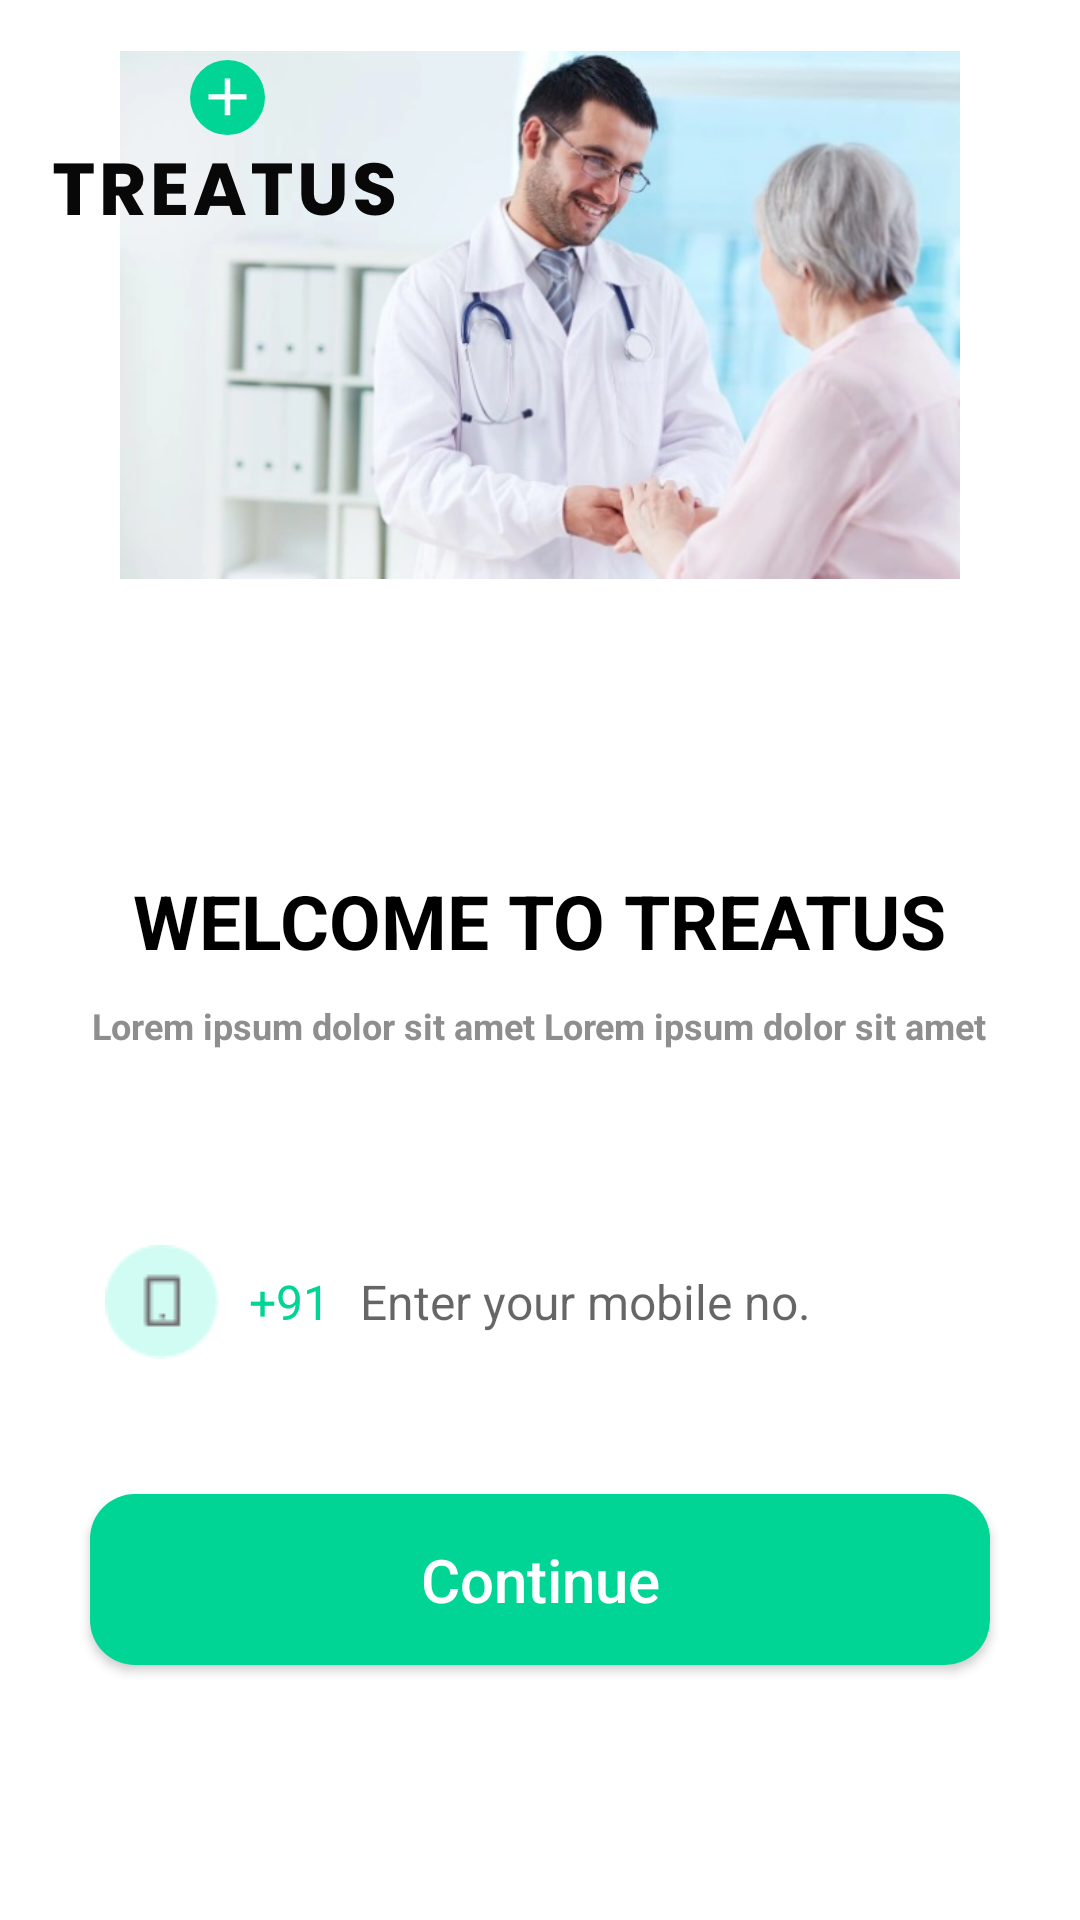

Icons on this 1080 x 1920 Android screen, each with the point to tap as [x,y]:
phone: [161,1301]
